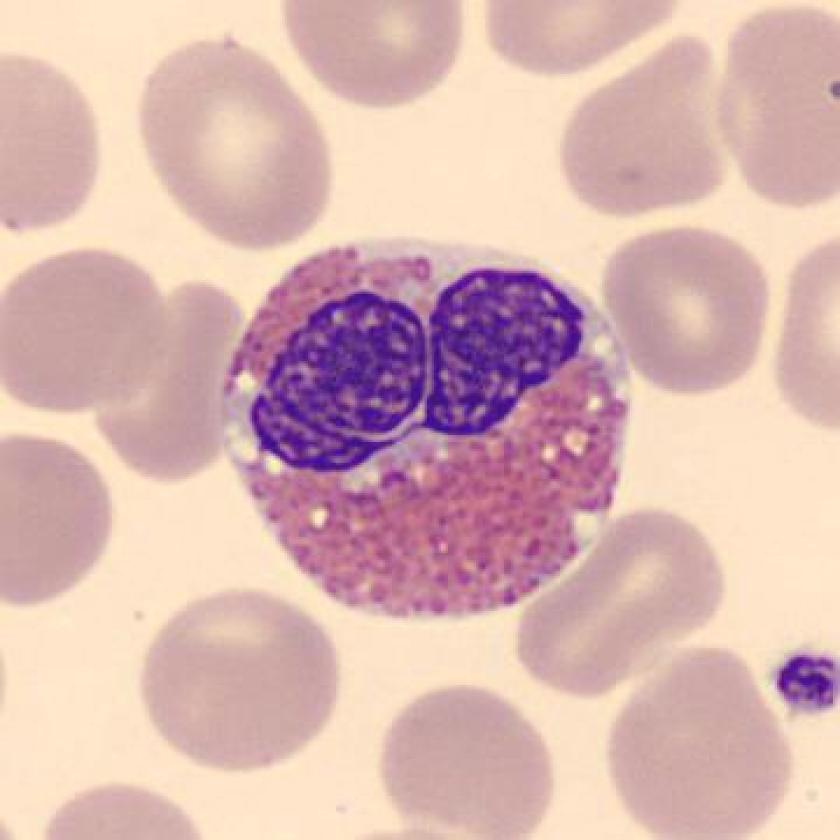eosinophil: (209, 223, 645, 633)
